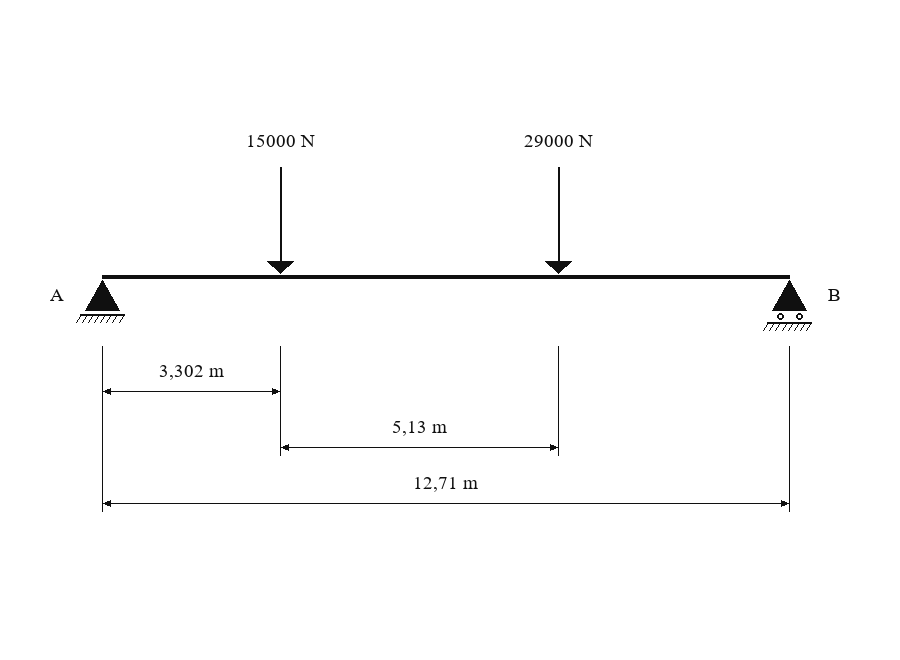pin_support: (76, 280, 125, 323)
point_load: (267, 167, 294, 274), (545, 167, 572, 274)
roller_support: (763, 280, 812, 331)
